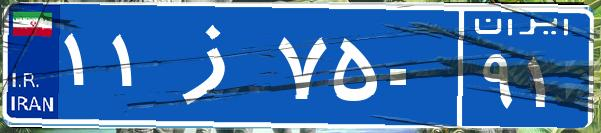0: (385, 28, 445, 110)
1: (57, 26, 110, 107), (110, 28, 158, 105), (525, 38, 570, 115)
5: (330, 28, 385, 110)
7: (273, 28, 330, 110)
9: (475, 38, 525, 113)
ز: (158, 15, 273, 115)
